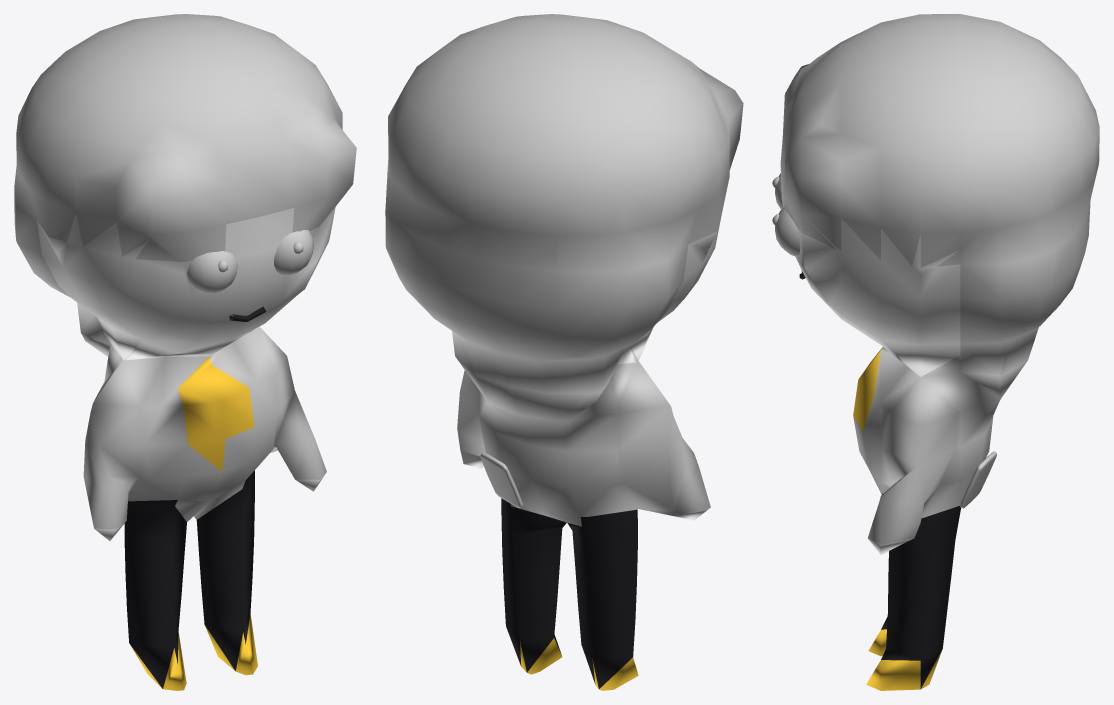
The model's file is idol_boy_e_lod.fbx.
3 views of the same model, side by side, from view 1: azimuth 30°, elevation 25°; view 2: azimuth 150°, elevation 25°; view 3: azimuth 270°, elevation 25° (orthographic). The views are drawn at different scales.
Parts seen in each view (by area): view 1: idol_boy_e_lod; view 2: idol_boy_e_lod; view 3: idol_boy_e_lod.
Boxes of the visible parts, bbox=[...] form: idol_boy_e_lod: bbox=[14, 14, 356, 690]; idol_boy_e_lod: bbox=[385, 14, 743, 690]; idol_boy_e_lod: bbox=[772, 14, 1099, 690].
Bounding box in the file's own units: 0.5885 × 1.23 × 0.5731.
